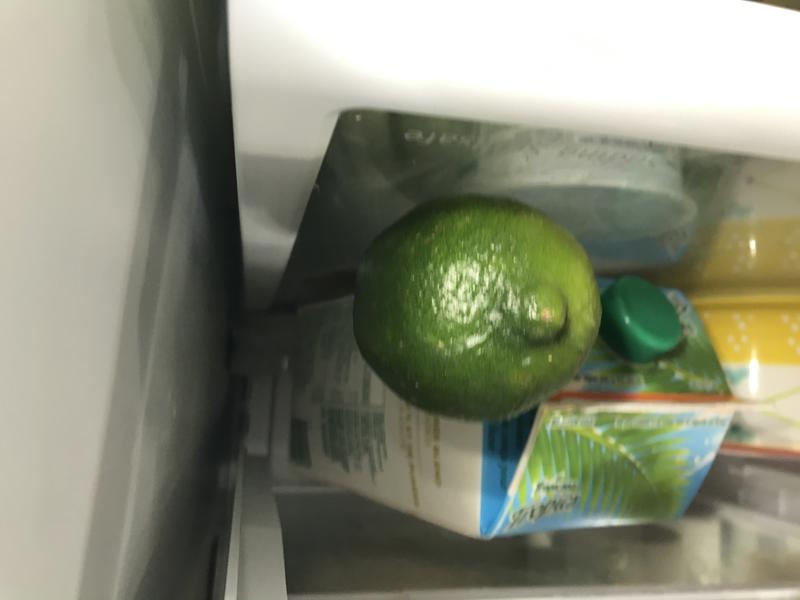lime: (346, 187, 608, 427)
